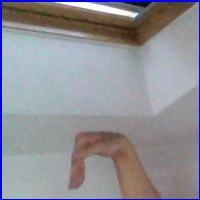del: (58, 126, 141, 195)
